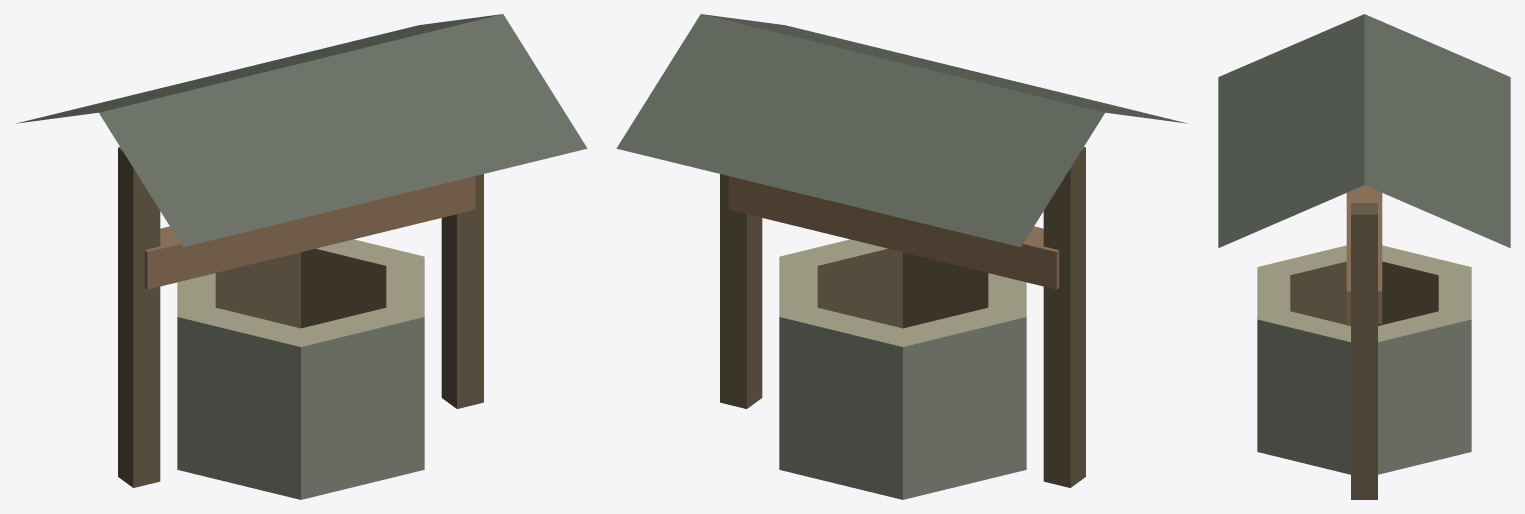
Rendered from ua_valley_well.obj.
The picture shows the model from 3 angles, left to right: view 1: azimuth 30°, elevation 25°; view 2: azimuth 150°, elevation 25°; view 3: azimuth 270°, elevation 25°; orthographic projection. The views are drawn at different scales.
Visible parts, largest first — view 1: ua_valley_well; view 2: ua_valley_well; view 3: ua_valley_well.
Boxes of the visible parts, box(x1,y1,x2,y2) form: ua_valley_well: box(16, 14, 587, 499); ua_valley_well: box(616, 14, 1187, 499); ua_valley_well: box(1218, 14, 1510, 499).
Size of the model in its own units: 1.8 by 1.6 by 1.3.
